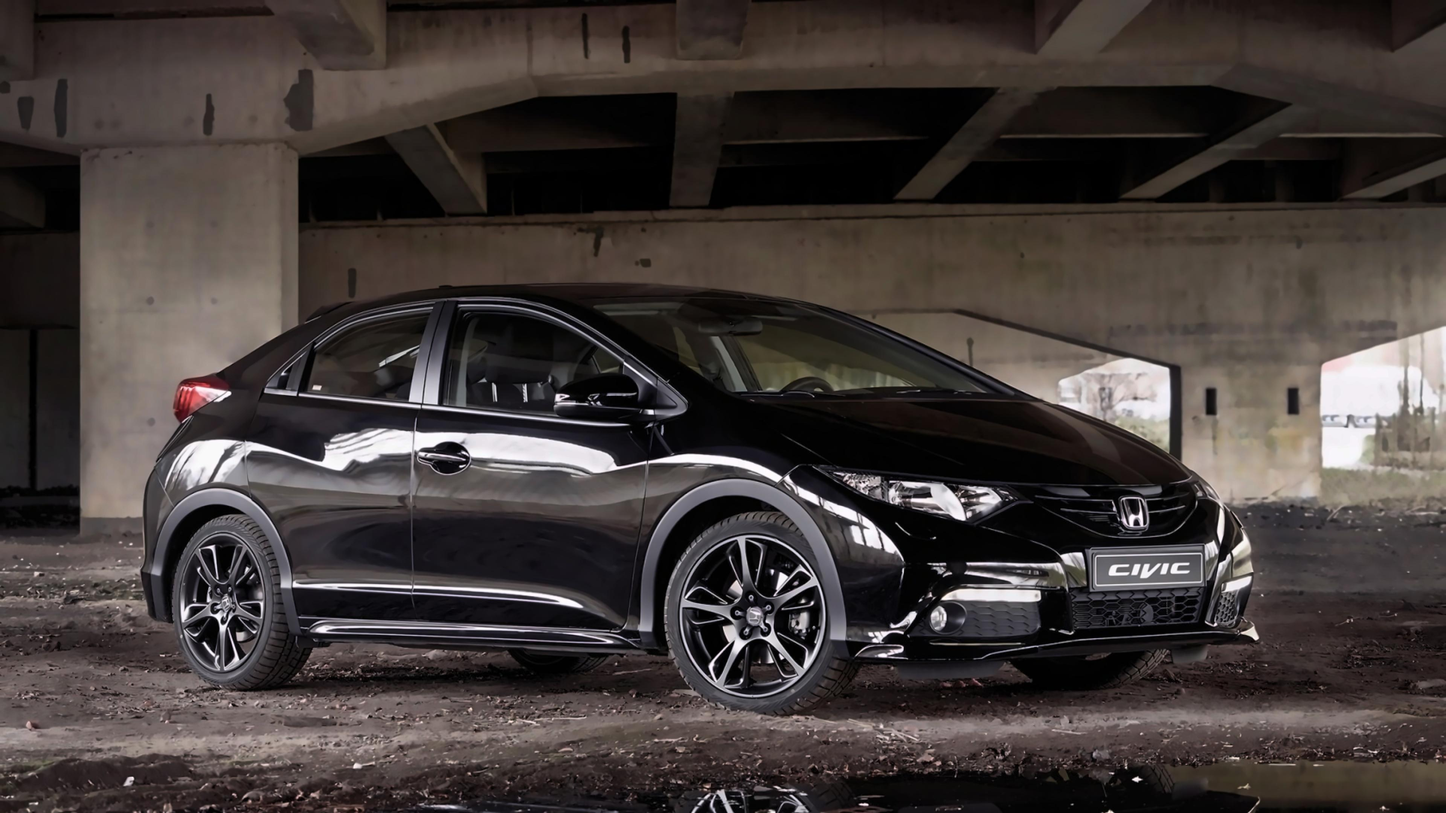Car hood: (736, 386, 1201, 491)
Driver-s door - -F-R-: (416, 281, 636, 636)
Fender - -F-R-: (631, 374, 809, 650)
Fender - -R-R-: (154, 409, 260, 533)
Front bumper: (800, 505, 1273, 648)
Headlight - -L-: (1171, 461, 1239, 511)
Headlight - -R-: (806, 456, 1027, 525)
Passenger-s door - -R-R-: (239, 288, 417, 627)
Rear bumper: (124, 490, 176, 624)
Rear light - -R-: (156, 363, 244, 421)
Side bumper - -R-: (262, 580, 659, 655)
Side mirror - -R-: (544, 354, 654, 434)
